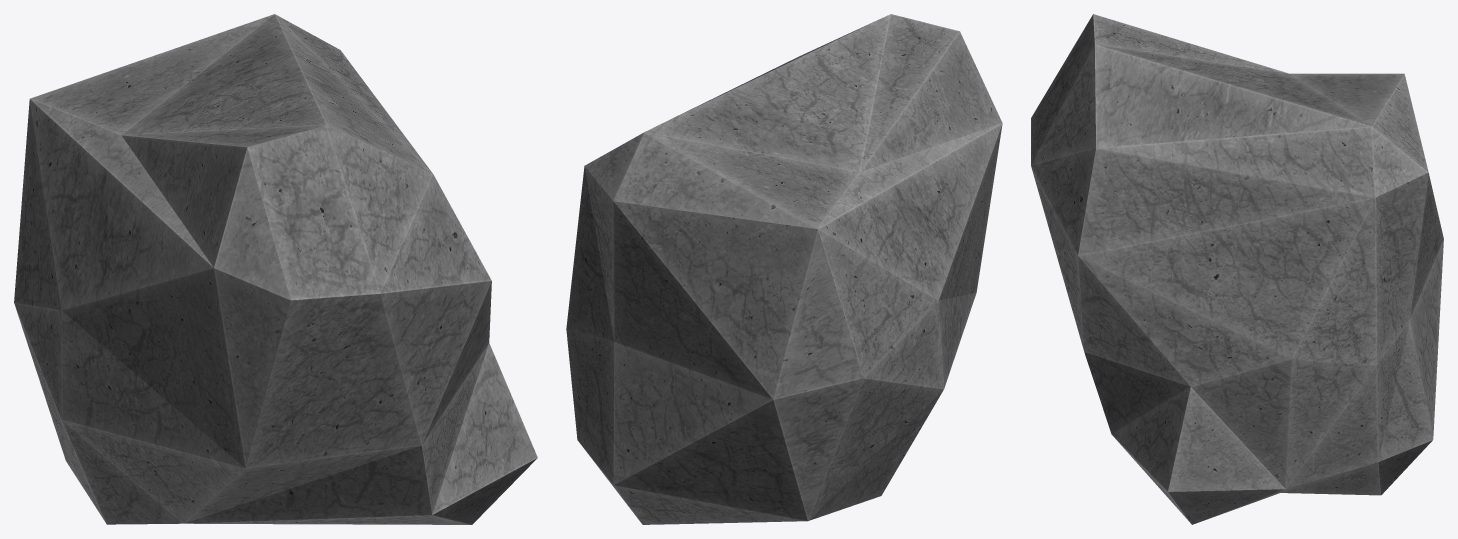
File: MediumAsteroid.obj
The picture shows the model from 3 angles, left to right: view 1: azimuth 30°, elevation 25°; view 2: azimuth 150°, elevation 25°; view 3: azimuth 270°, elevation 25°; orthographic projection. The views are drawn at different scales.
Visible parts, largest first — view 1: Medium_Asteroid_Mesh.001; view 2: Medium_Asteroid_Mesh.001; view 3: Medium_Asteroid_Mesh.001.
Part boxes in pixels (left/top/right/bottom): Medium_Asteroid_Mesh.001: left=14, top=14, right=537, bottom=524; Medium_Asteroid_Mesh.001: left=566, top=14, right=1002, bottom=524; Medium_Asteroid_Mesh.001: left=1031, top=14, right=1443, bottom=524.
Bounding box in the file's own units: 0.4956 × 0.5646 × 0.5212.
